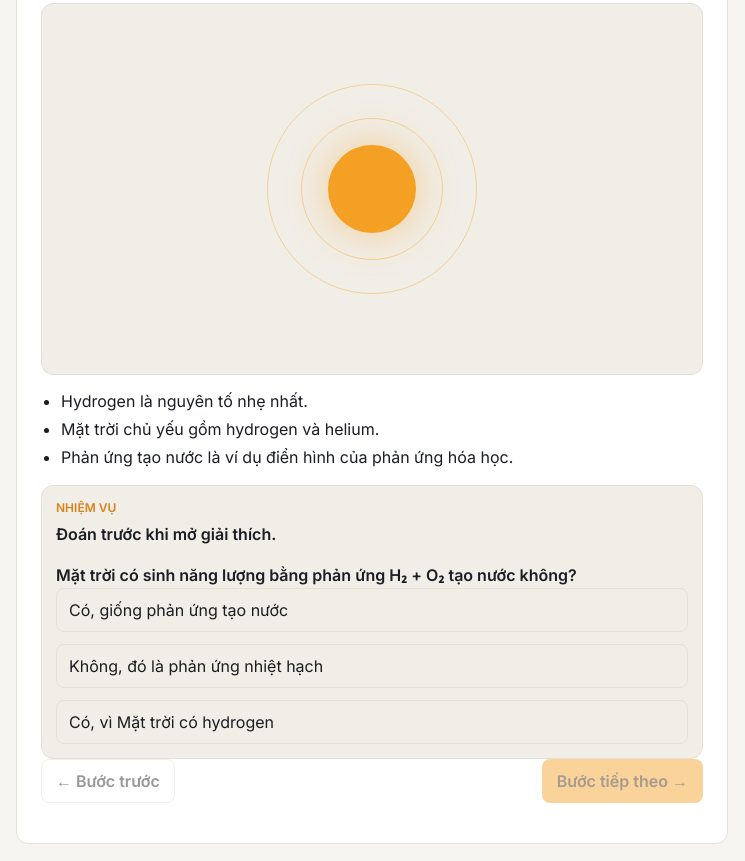
Test: LessonRenderer › allows a wrong hook prediction to reveal and unlock the next mission
This screenshot has width=745, height=861.
(page scrolled)
Click the button "Có, giống phản ứng tạo nước".
click(179, 610)  # box [56,588,688,632]
(page scrolled)
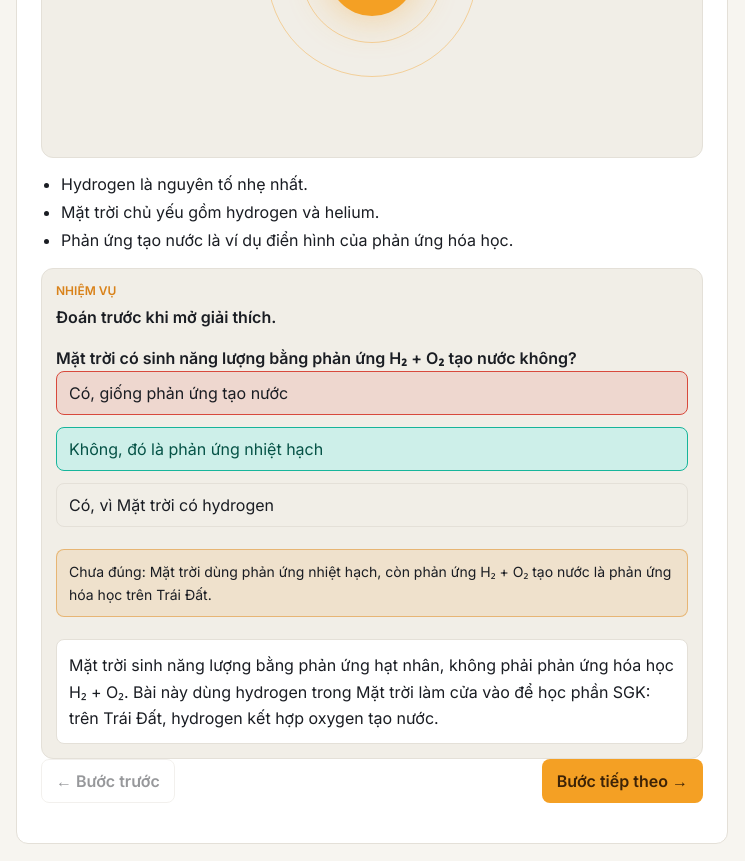
expect the text "Chưa đúng: Mặt trời dùng phản ứng nhiệt hạch" is shown: met, box [69,563,671,603]
expect the text "Mặt trời sinh năng lượng bằng phản ứng hạt nhân" is shown: met, box [69,655,674,728]
expect the button "Bước tiếp theo →" is enabled: met, box [542,760,703,804]
